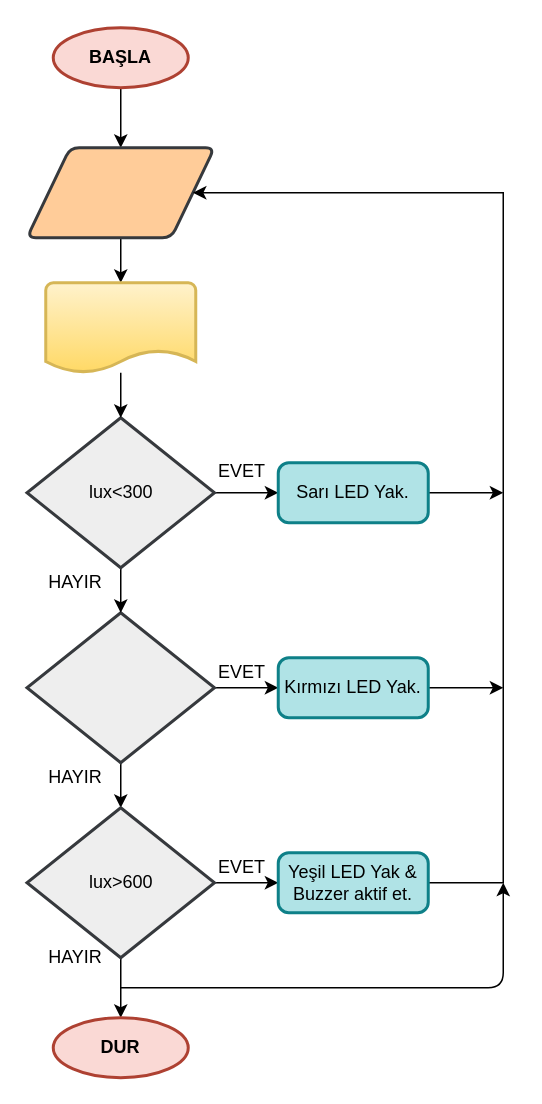
Some shapes in this 542 by 1104 pixel diagram are drawn without their labels. The shapes that lost their labels are listed below. From the top down, each one's centre as x and y in pixels, then its label:
At point (120, 192): "BH1750 lux değeri oku.".
At point (120, 327): "Ekrana lux değerini yaz.".
At point (120, 687): "lux>300&&lux<600".
